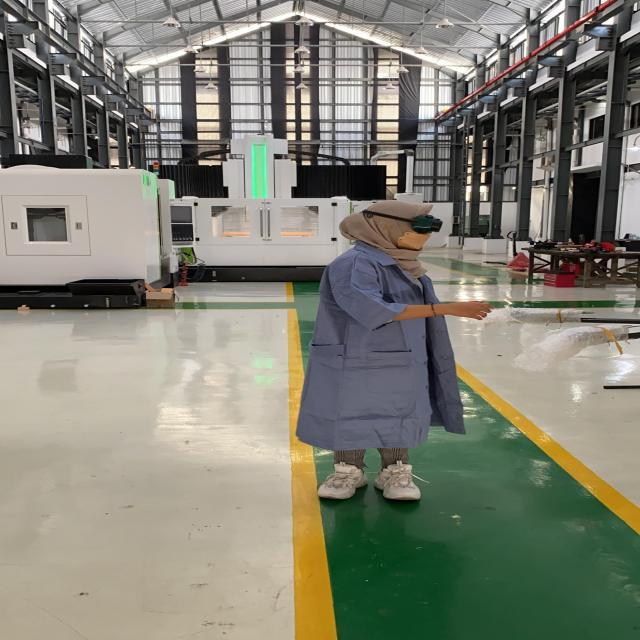glasses: (356, 206, 444, 234)
